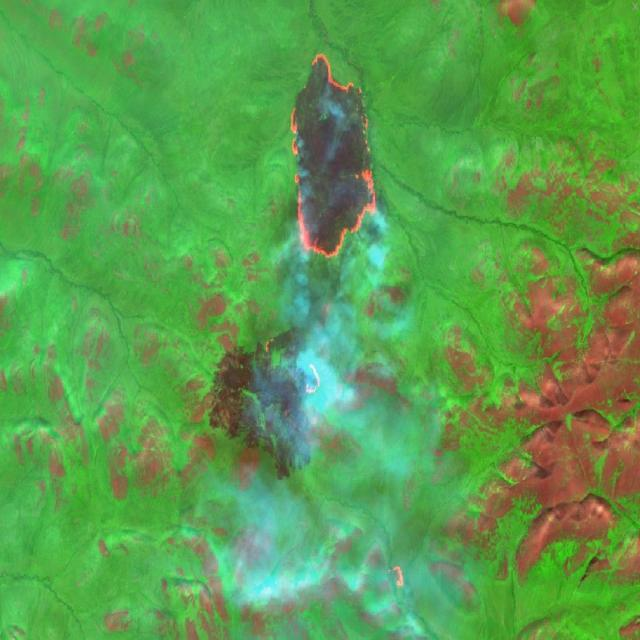fire: (287, 49, 384, 264)
